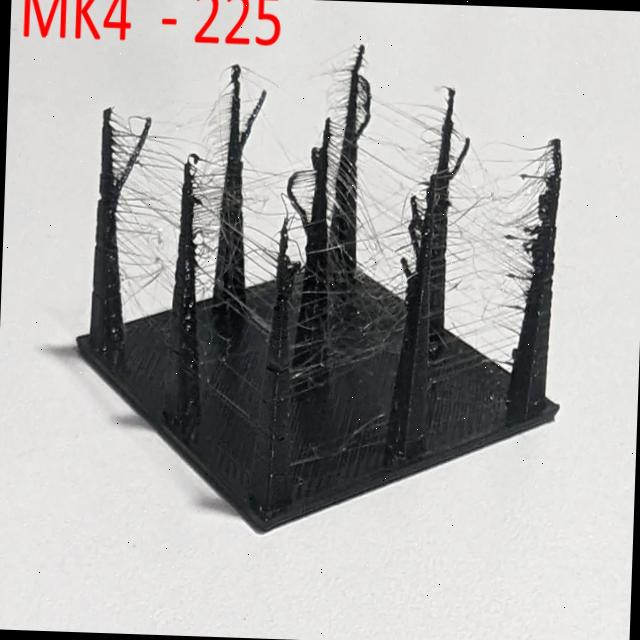stringing: (448, 113, 548, 374), (360, 87, 441, 298), (111, 108, 179, 316), (189, 73, 230, 308), (246, 162, 313, 288), (310, 46, 353, 235), (239, 67, 266, 164), (359, 61, 375, 147)
